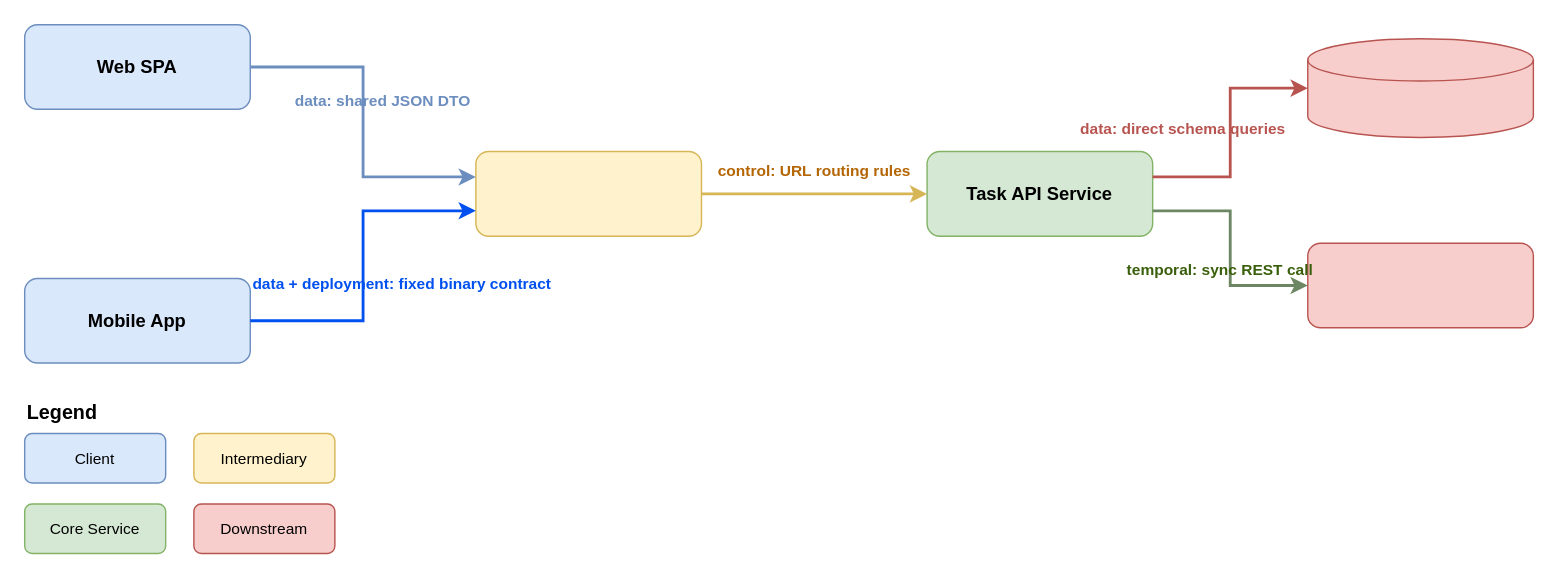
This 1558x578 diagram has some shape labels left out. Here are the shapes that lost their labels. From the top down, the box of each, then its label:
(1306, 37, 1533, 137): Task Store (DB)
(474, 150, 701, 236): API Gateway
(1306, 242, 1533, 328): Notification Service
